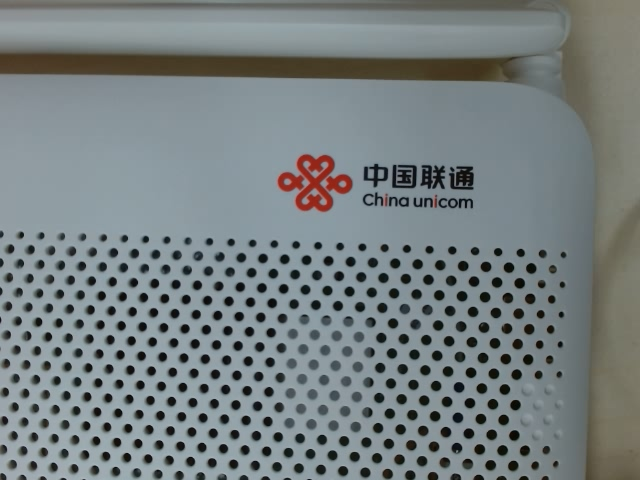AD_ChinaUnicom: (265, 131, 488, 224)
